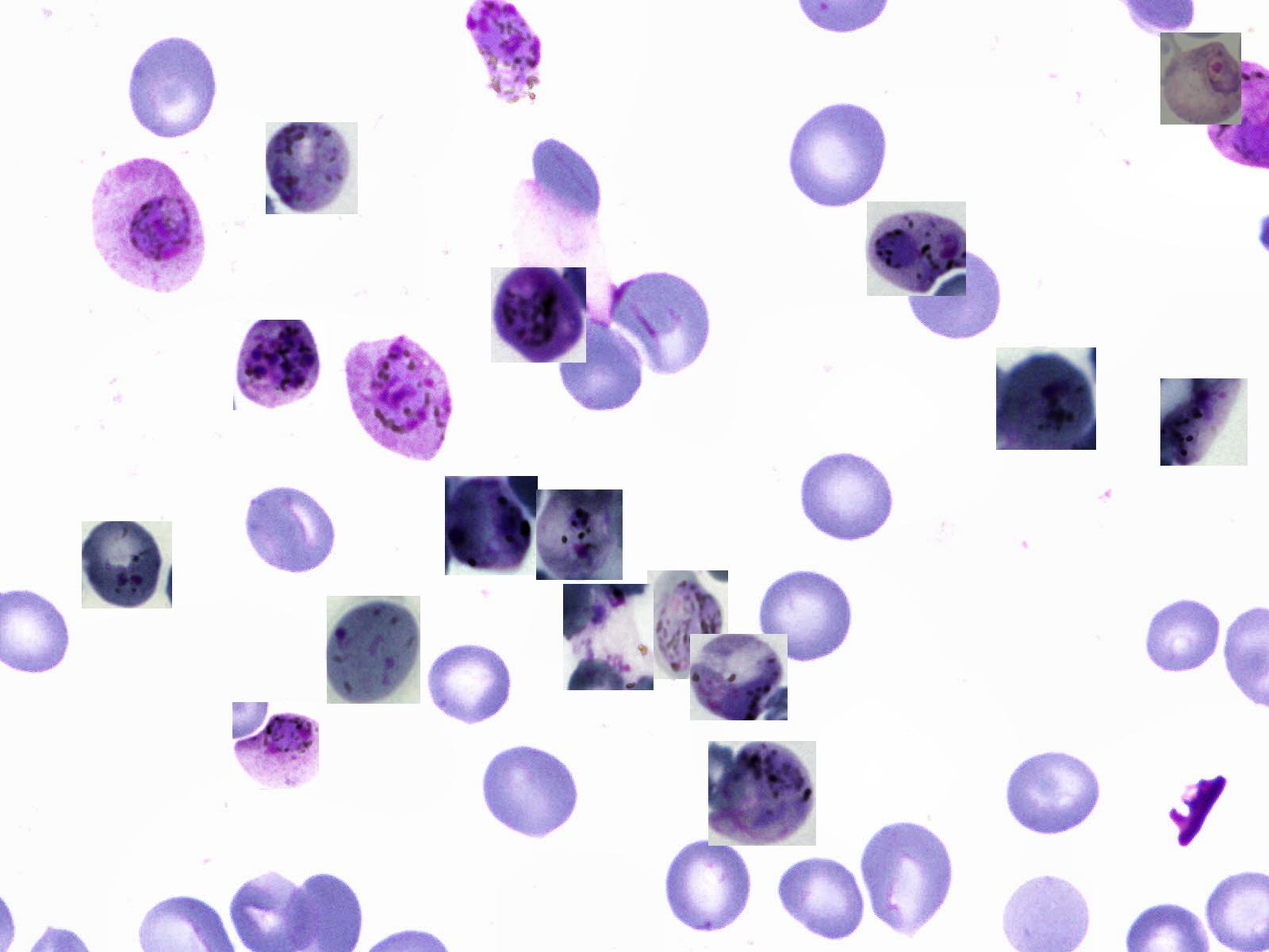Infected: (343, 331, 454, 463), (95, 158, 204, 289), (708, 741, 816, 846), (996, 347, 1096, 450), (327, 596, 420, 704), (563, 584, 654, 690), (867, 202, 966, 296), (445, 476, 538, 575), (491, 267, 586, 363), (647, 570, 728, 679), (233, 320, 328, 410), (266, 122, 358, 214), (691, 634, 788, 720), (536, 489, 623, 580), (82, 521, 172, 608), (1160, 378, 1248, 466), (468, 0, 546, 98), (232, 702, 319, 789), (1160, 33, 1241, 125)
Uninfected: (786, 94, 893, 212), (861, 817, 953, 935), (753, 563, 857, 665), (610, 272, 715, 372), (903, 244, 1009, 341), (480, 744, 585, 839), (799, 447, 897, 543), (132, 37, 220, 140), (554, 313, 644, 413), (1008, 747, 1102, 837), (664, 839, 753, 931), (245, 482, 334, 573), (778, 855, 862, 946), (427, 644, 516, 722), (531, 136, 603, 225), (1144, 598, 1225, 677)
